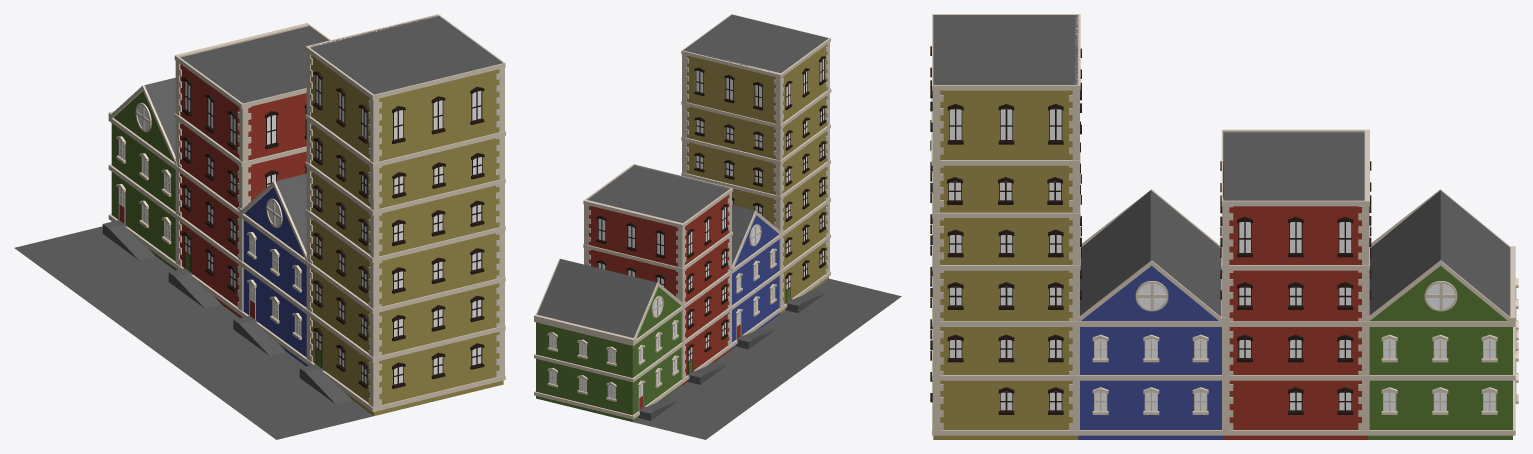
Rendered from 2x1_Buildings2.col.glb.
The picture shows the model from 3 angles, left to right: view 1: azimuth 30°, elevation 25°; view 2: azimuth 150°, elevation 25°; view 3: azimuth 270°, elevation 25°; orthographic projection. The views are drawn at different scales.
Parts seen in each view (by area): view 1: 2x1_Buildings2.col; view 2: 2x1_Buildings2.col; view 3: 2x1_Buildings2.col.
Boxes of the visible parts, box(x1,y1,x2,y2) form: 2x1_Buildings2.col: box(14, 14, 505, 439); 2x1_Buildings2.col: box(534, 14, 901, 439); 2x1_Buildings2.col: box(930, 14, 1518, 439).
Size of the model in its own units: 20.21 by 27.03 by 40.59.
